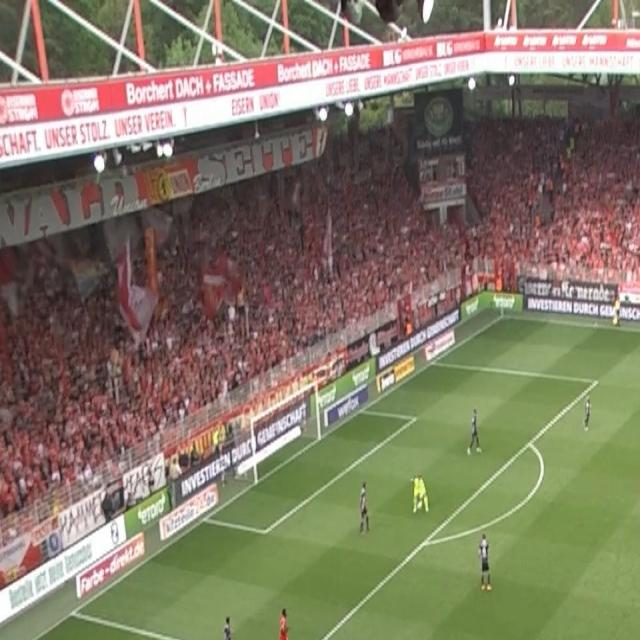ball: (417, 500, 423, 510)
